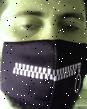with_mask: (1, 2, 87, 109)
